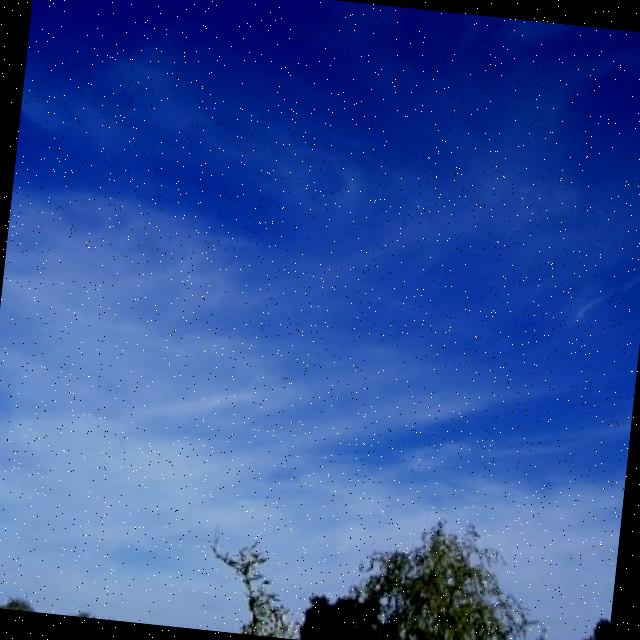Ci: (1, 1, 640, 525)
